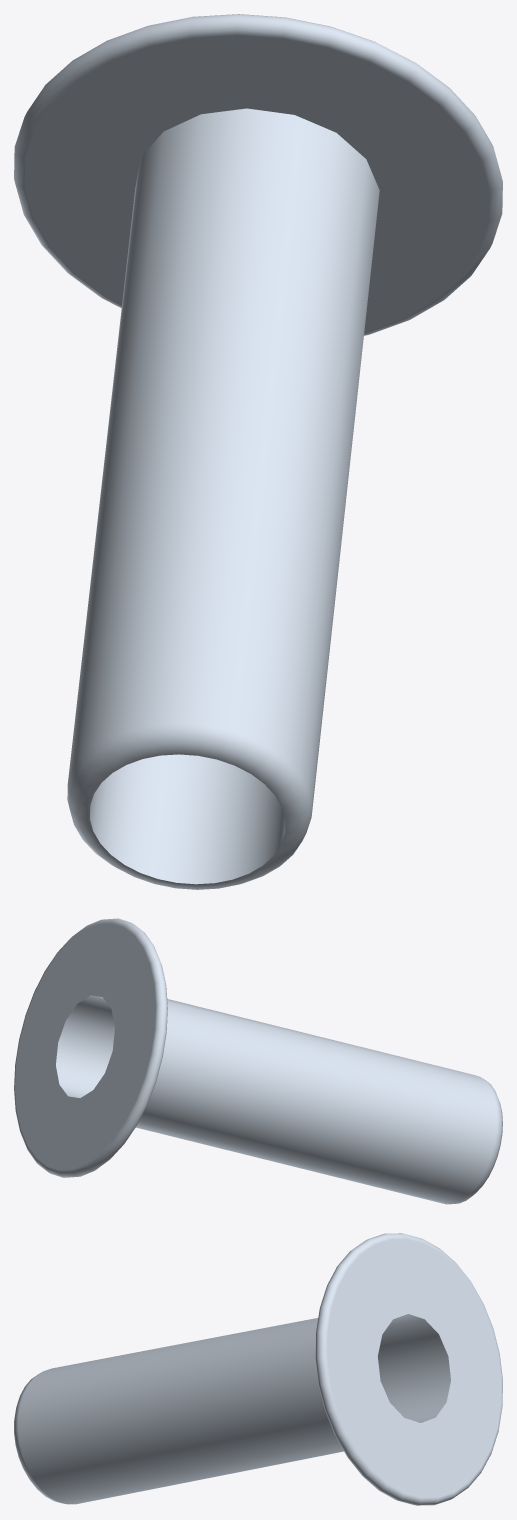
File: RB-045_viewer.glb
3 renders of one model, top to bottom at view 1: azimuth 30°, elevation 25°; view 2: azimuth 150°, elevation 25°; view 3: azimuth 270°, elevation 25°, orthographic. The views are drawn at different scales.
Visible parts, largest first — view 1: basebody_imported1; view 2: basebody_imported1; view 3: basebody_imported1.
Boxes of the visible parts, bbox=[...] form: basebody_imported1: bbox=[14, 14, 502, 889]; basebody_imported1: bbox=[14, 918, 502, 1204]; basebody_imported1: bbox=[14, 1233, 502, 1505].
Bounding box in the file's own units: 0.00765 × 0.00685 × 0.00886.
